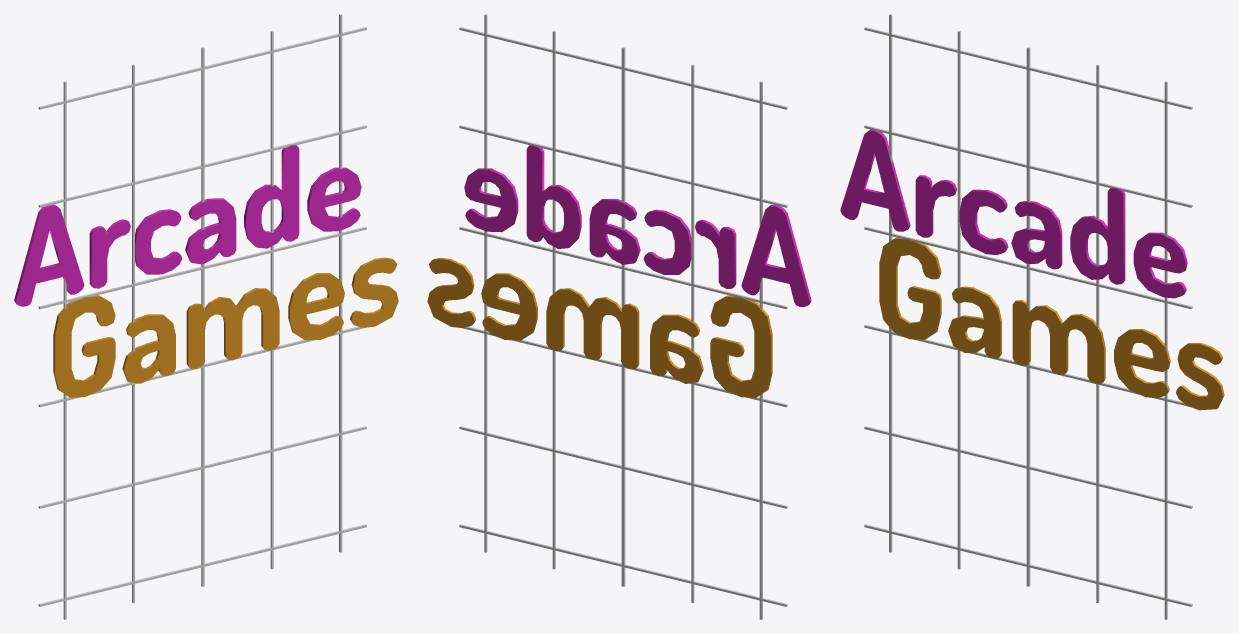
Rendered from Arcade_Neon_1.fbx.
3 renders of one model, left to right at view 1: azimuth 30°, elevation 25°; view 2: azimuth 150°, elevation 25°; view 3: azimuth 330°, elevation 25°, orthographic.
Visible parts, largest first — view 1: Cube.174, Cube.173; view 2: Cube.174, Cube.173; view 3: Cube.174, Cube.173.
Part boxes in pixels (left/top/right/bottom): Cube.174: left=14, top=145, right=398, bottom=397; Cube.173: left=38, top=14, right=366, bottom=619; Cube.174: left=427, top=145, right=811, bottom=397; Cube.173: left=459, top=14, right=787, bottom=619; Cube.174: left=840, top=129, right=1224, bottom=410; Cube.173: left=864, top=14, right=1192, bottom=619.
Size of the model in its own units: 395 by 532 by 3.51.
